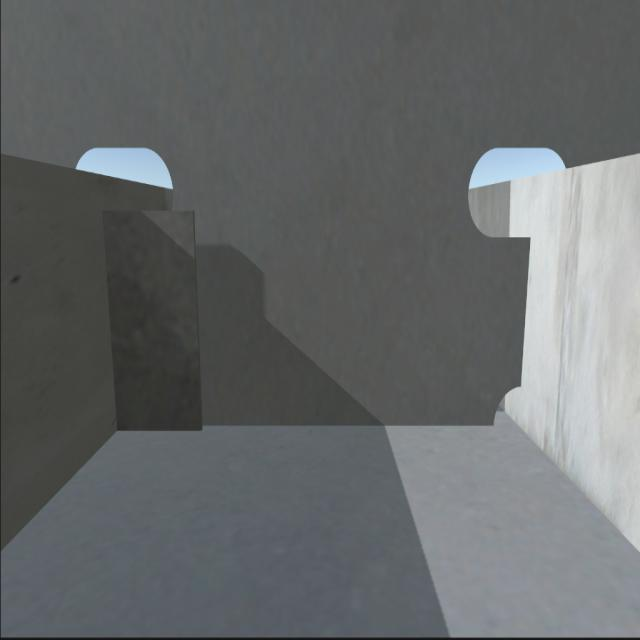fillet_hole: (484, 384, 523, 429)
fillet_yong_jeop_jang: (118, 418, 493, 430)
longi_yong_jeop_jang: (100, 207, 128, 436), (517, 238, 534, 384)
plate_CP01: (104, 202, 208, 428)
